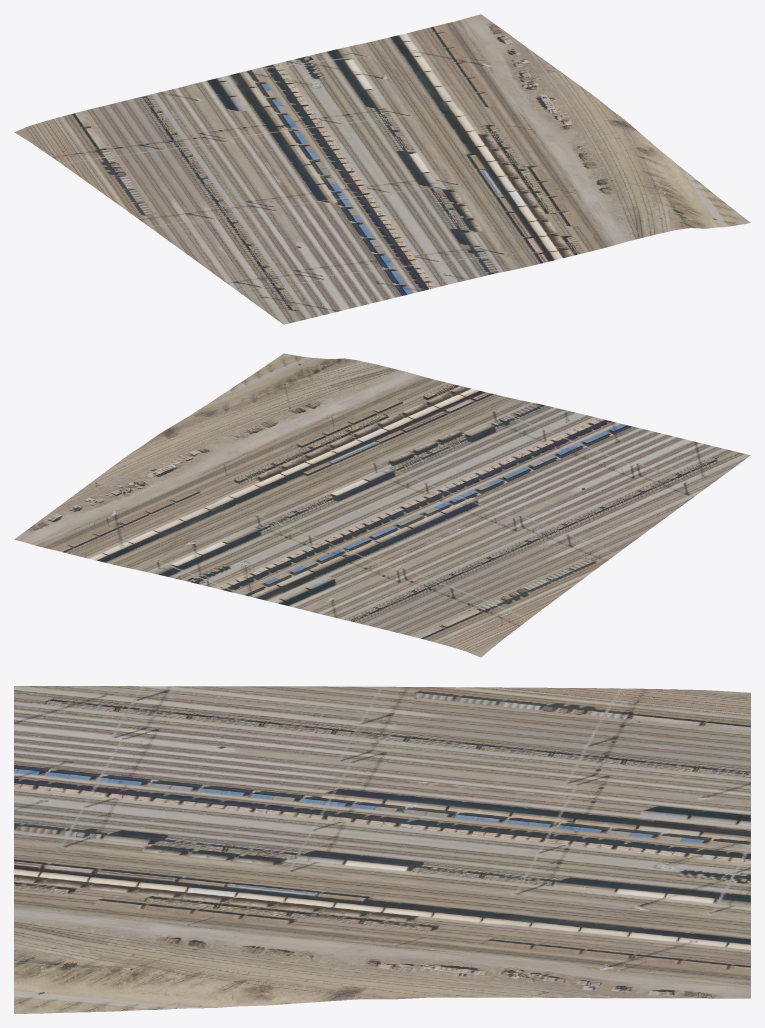
Rendered from CM_Terrain_24487797_6818975.fbx.
3 views of the same model, one above another, from view 1: azimuth 30°, elevation 25°; view 2: azimuth 150°, elevation 25°; view 3: azimuth 270°, elevation 25° (orthographic). The views are drawn at different scales.
Parts seen in each view (by area): view 1: CM_Terrain_24487797_6818975_LOD0; view 2: CM_Terrain_24487797_6818975_LOD0; view 3: CM_Terrain_24487797_6818975_LOD0.
Boxes of the visible parts, x1,y1,x2,y2 form: CM_Terrain_24487797_6818975_LOD0: (14,14,750,324); CM_Terrain_24487797_6818975_LOD0: (14,353,750,657); CM_Terrain_24487797_6818975_LOD0: (14,686,750,1013).
Size of what is drawn, in the model's own units: 205 by 5.07 by 205.
